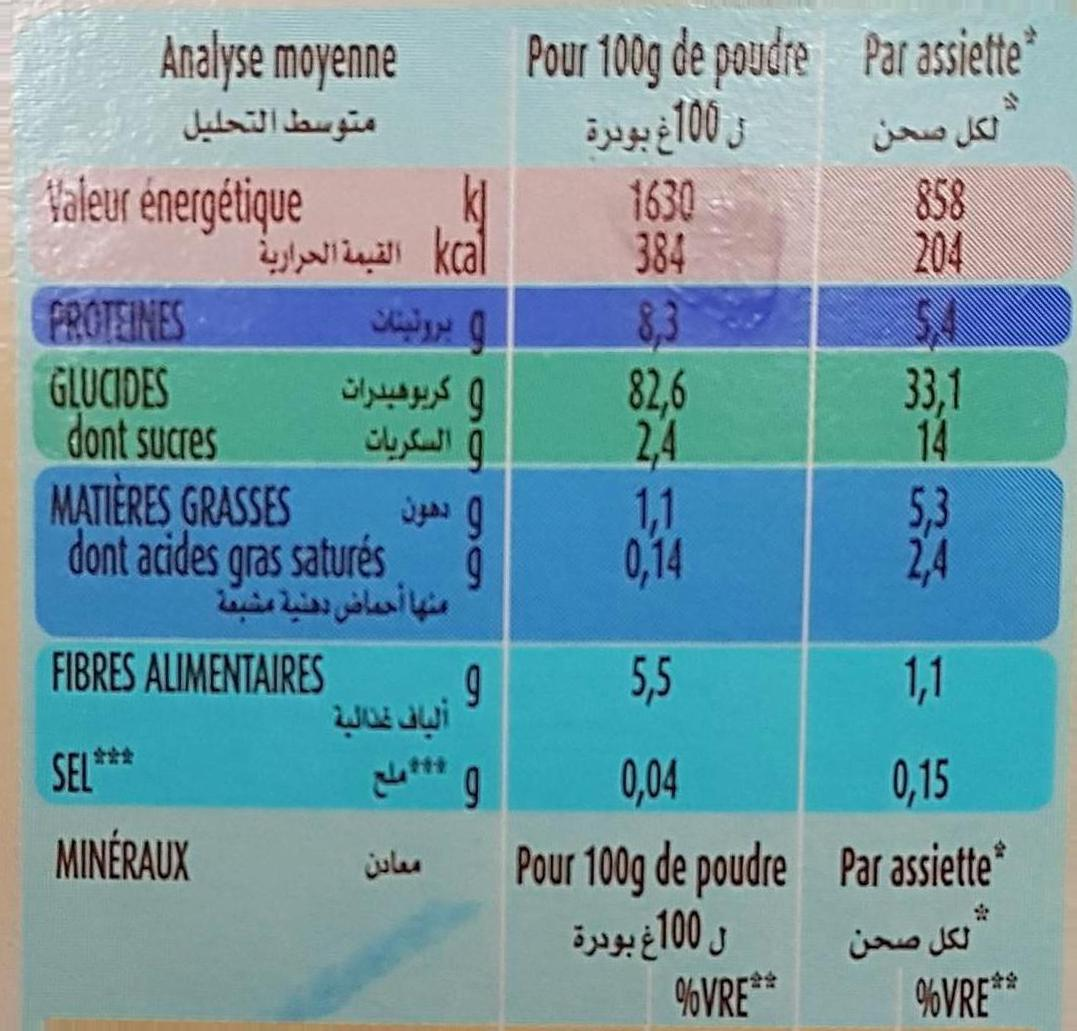column: (47, 29, 489, 887), (525, 28, 807, 1020), (835, 26, 1041, 1019)
line: (40, 908, 1001, 963), (47, 33, 1038, 86), (53, 748, 958, 804), (56, 837, 1006, 889), (47, 104, 1017, 152), (71, 537, 949, 589), (49, 175, 969, 224), (53, 479, 948, 528), (52, 651, 943, 700), (53, 298, 956, 346), (39, 974, 1021, 1018), (52, 367, 967, 412), (49, 234, 971, 275), (68, 417, 949, 457)
table: (22, 10, 1077, 1030)
